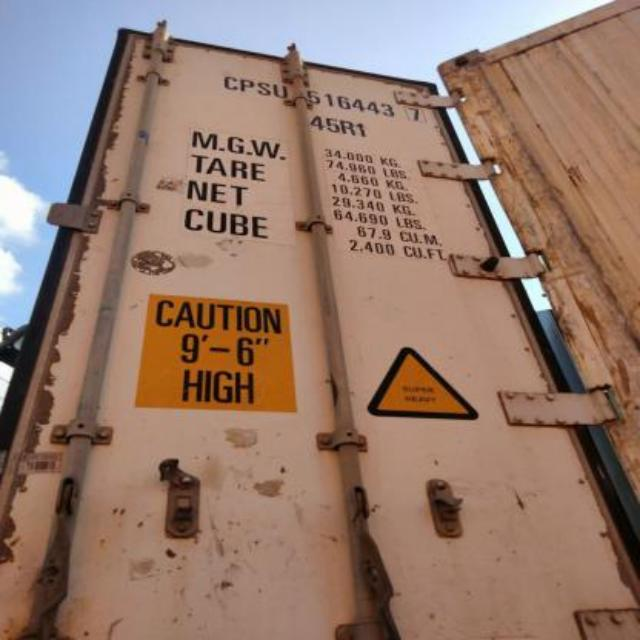1: (323, 92, 332, 106)
3: (382, 104, 394, 116)
4: (352, 98, 366, 112), (368, 102, 380, 114)
5: (308, 92, 320, 105)
6: (338, 94, 352, 110)
7: (409, 108, 421, 120)
C: (224, 76, 238, 90)
P: (240, 78, 253, 92)
S: (256, 80, 272, 96)
U: (273, 84, 289, 98)
